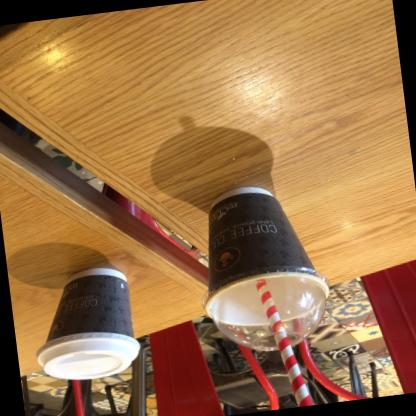Paper: (204, 186, 328, 325), (253, 278, 312, 406), (44, 267, 132, 342)
Plastic: (200, 265, 328, 350), (34, 331, 139, 378)
